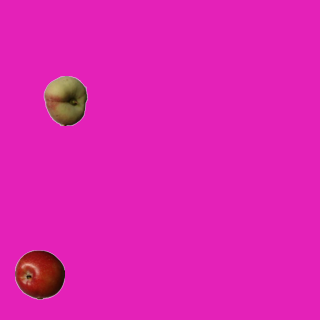Apple Braeburn: (14, 249, 64, 299)
Peach Flat: (40, 75, 90, 125)
